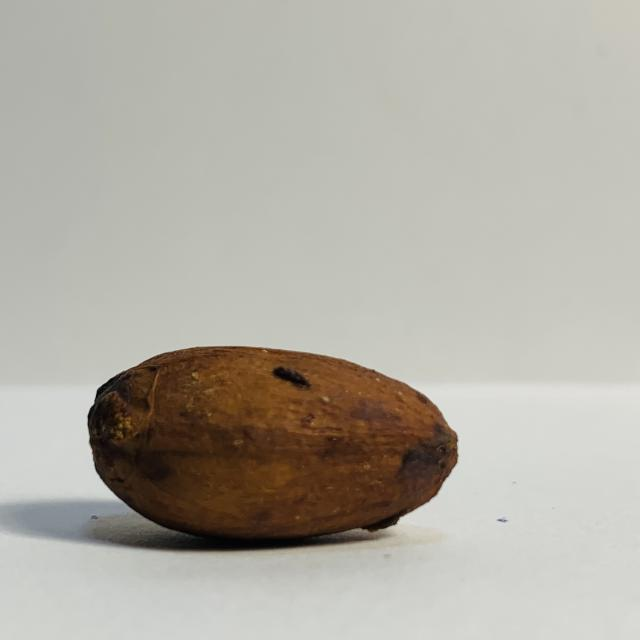Fine_cocoabeans: (0, 320, 492, 579)
